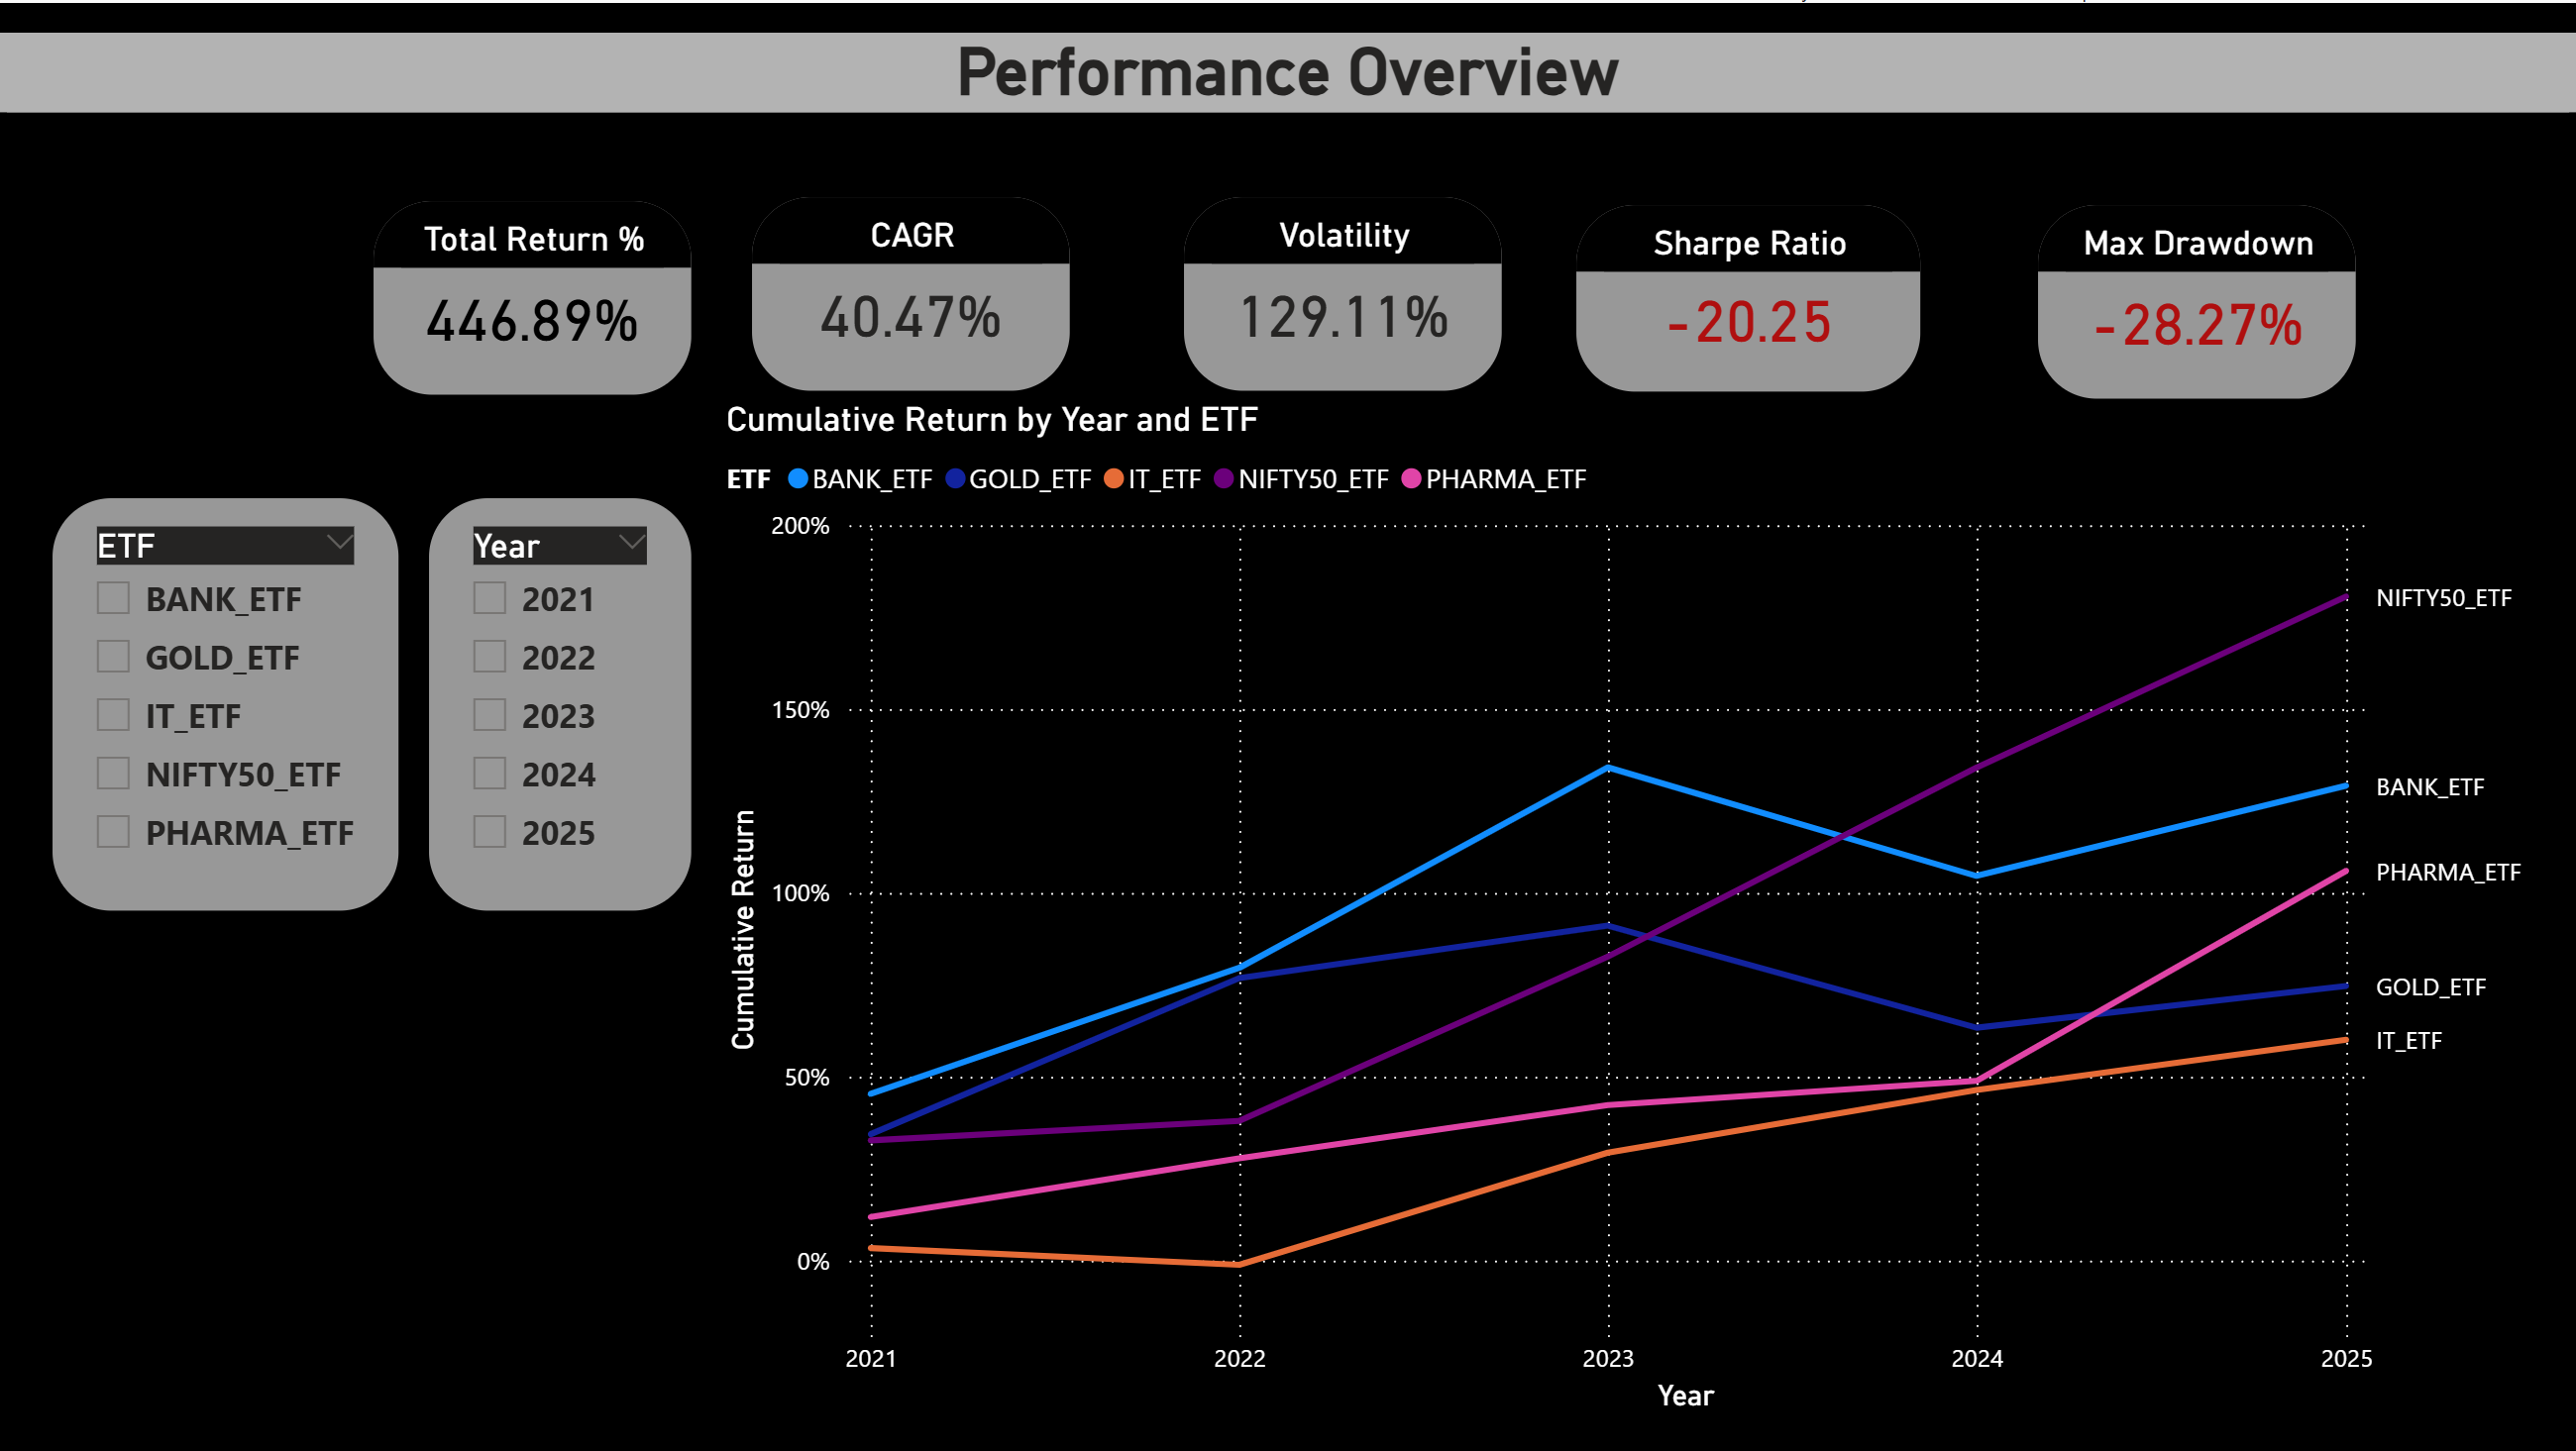

This screenshot's page, from the dashboard's own definition file:
{"tool":"powerbi","page":{"name":"Performance Overview","canvas":[1280,720],"ordinal":0},"visuals":[{"type":"lineChart","fields":{"Category":["Date_Table.Date.Variation.Date Hierarchy.Year","Date_Table.Date.Variation.Date Hierarchy.Quarter","Date_Table.Date.Variation.Date Hierarchy.Month","Date_Table.Date.Variation.Date Hierarchy.Day"],"Series":["ETF_Data.ETF"],"Y":["ETF_Data.Cumulative Return"]},"box":[356.3,196.8,902.8,506.9],"z":0},{"type":"slicer","fields":{"Values":["Date_Table.Year"]},"box":[213.3,244.1,132,206.7],"z":1000},{"type":"slicer","fields":{"Values":["ETF_Data.ETF"]},"box":[26.4,244.1,173.7,206.7],"z":2000},{"type":"card","title":"Total Return %","fields":{"Values":["ETF_Data.Total Return %"]},"box":[185.8,96.8,159.5,97.9],"z":3000},{"type":"card","title":"Volatility","fields":{"Values":["ETF_Data.Volatility"]},"box":[587.2,95.7,159.5,97.9],"z":4000},{"type":"card","title":"CAGR","fields":{"Values":["ETF_Data.CAGR"]},"box":[372.8,95.7,159.5,97.9],"z":5000},{"type":"card","title":"Max Drawdown","fields":{"Values":["ETF_Data.Max Drawdown %"]},"box":[1010.6,99,159.5,97.9],"z":6000},{"type":"card","title":"Sharpe Ratio","fields":{"Values":["ETF_Data.Sharpe Ratio"]},"box":[781.9,99,172.6,94.6],"z":7000},{"type":"textbox","title":"Performance Overview","box":[0,14.3,1280,39.6],"z":8000}]}

Visuals, with their boxes in screenshot pixels (x1, y1, x2, y2), scaled from the page's 1280x720 canvas onto the 2576x1451 screenshot:
lineChart - Date_Table.Date.Variation.Date Hierarchy.Year x Date_Table.Date.Variation.Date Hierarchy.Quarter: <bbox>717, 396, 2534, 1418</bbox>
slicer - Date_Table.Year: <bbox>429, 492, 695, 908</bbox>
slicer - ETF_Data.ETF: <bbox>54, 492, 402, 908</bbox>
"Total Return %" card: <bbox>374, 195, 695, 392</bbox>
"Volatility" card: <bbox>1182, 193, 1503, 390</bbox>
"CAGR" card: <bbox>750, 193, 1071, 390</bbox>
"Max Drawdown" card: <bbox>2034, 199, 2355, 397</bbox>
"Sharpe Ratio" card: <bbox>1573, 199, 1921, 390</bbox>
"Performance Overview" textbox: <bbox>0, 29, 2575, 109</bbox>
